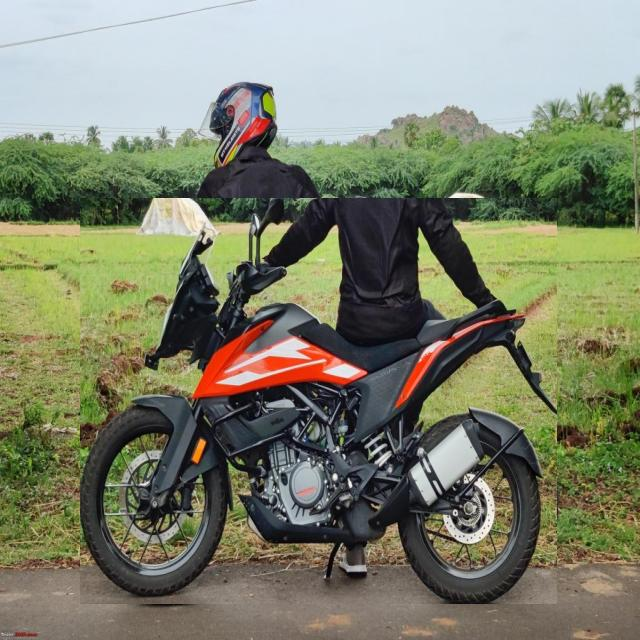motorcycle: (81, 198, 557, 604)
